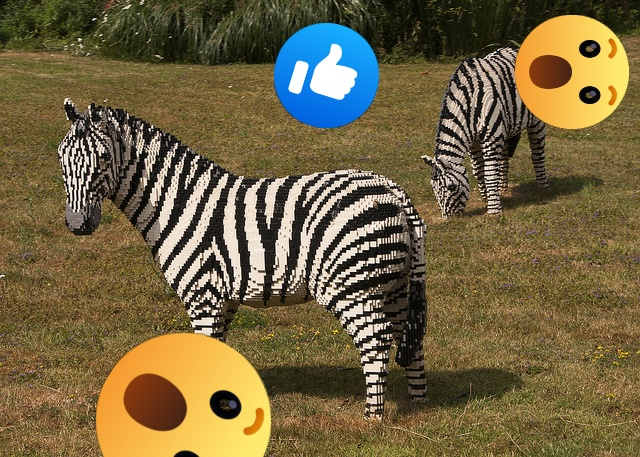like: (274, 23, 379, 128)
wow: (96, 333, 271, 457), (515, 15, 629, 129)
